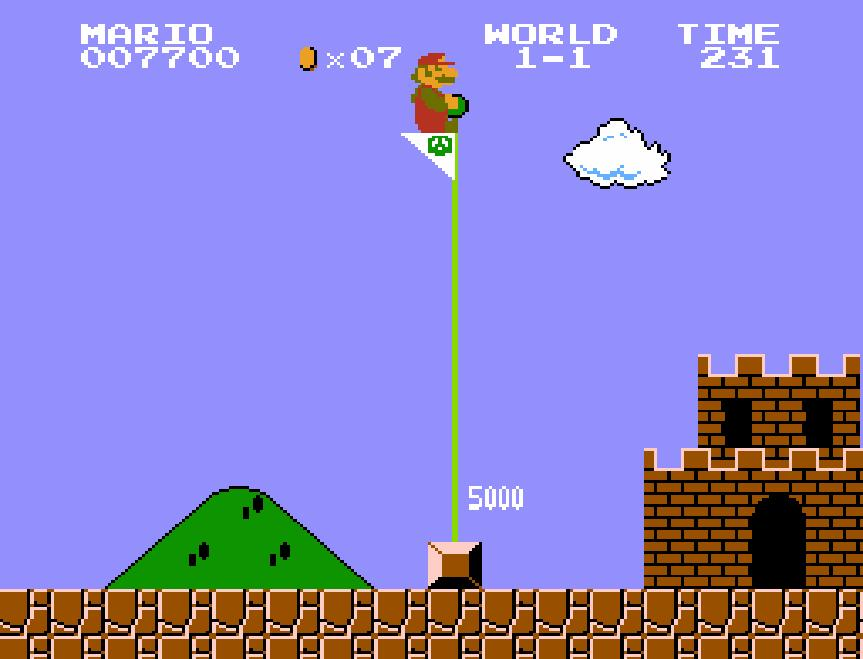big_mario: (402, 44, 461, 142)
